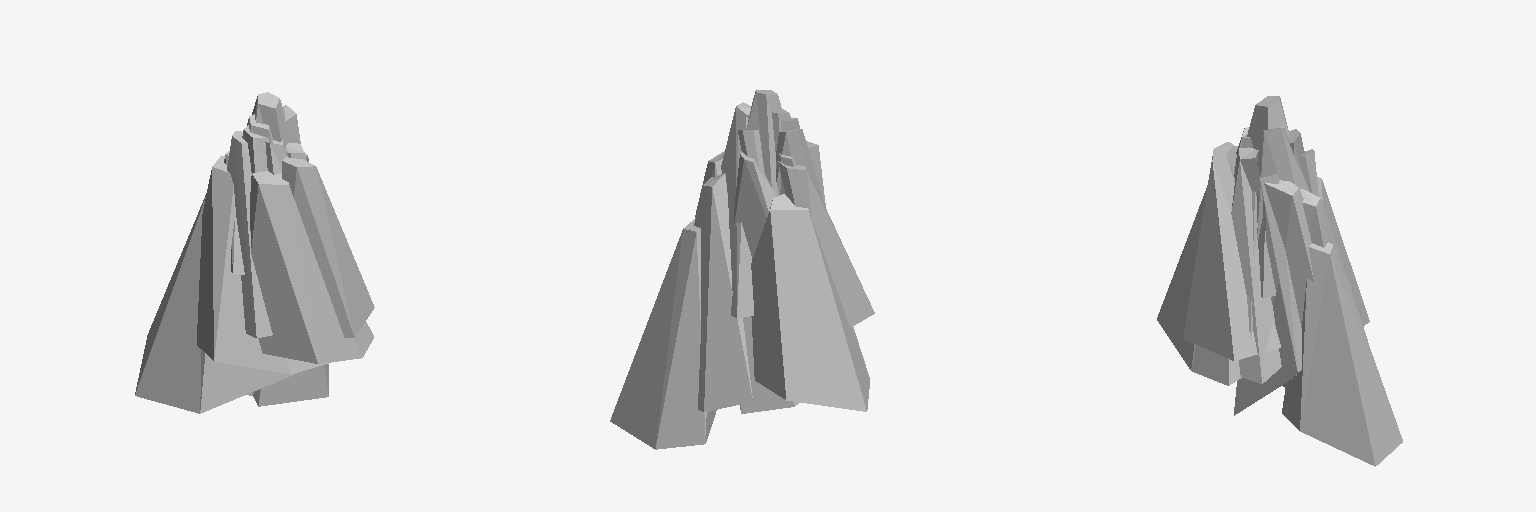
The model's file is BGmountain09.obj.
3 renders of one model, left to right at view 1: azimuth 30°, elevation 25°; view 2: azimuth 150°, elevation 25°; view 3: azimuth 270°, elevation 25°, orthographic.
Visible parts, largest first — view 1: polySurface2; view 2: polySurface2; view 3: polySurface2.
Part boxes in pixels (x1,y1,x2,y2): polySurface2: (135, 92, 374, 413); polySurface2: (610, 89, 874, 449); polySurface2: (1157, 96, 1402, 466).
Bounding box in the file's own units: 2003 × 2794 × 1941.